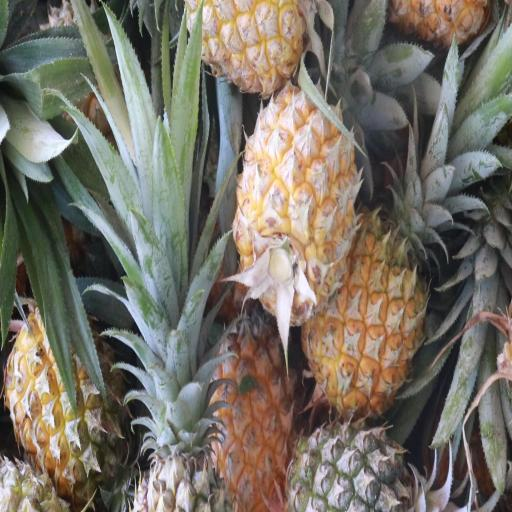------------------------------: (7, 300, 127, 492)
Pineapple - v8 v1: (237, 83, 356, 319), (308, 206, 428, 406), (206, 306, 297, 506)
